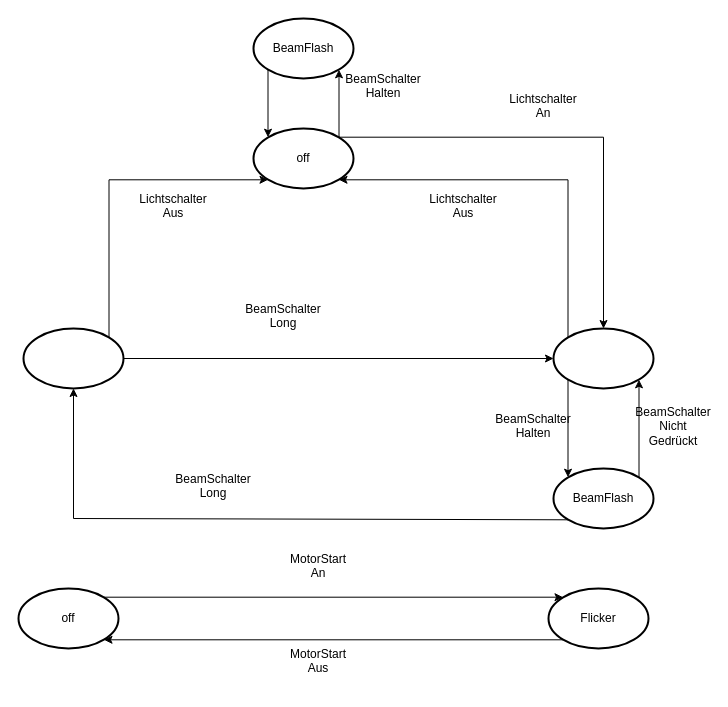
Image size: 728x707. Some labels were removed from this diagram. Here are the shapes that lost their labels. From the top down, the centre of each, then its label:
At [73,358]: "BeamLight".
At [603,358]: "LightOn".
